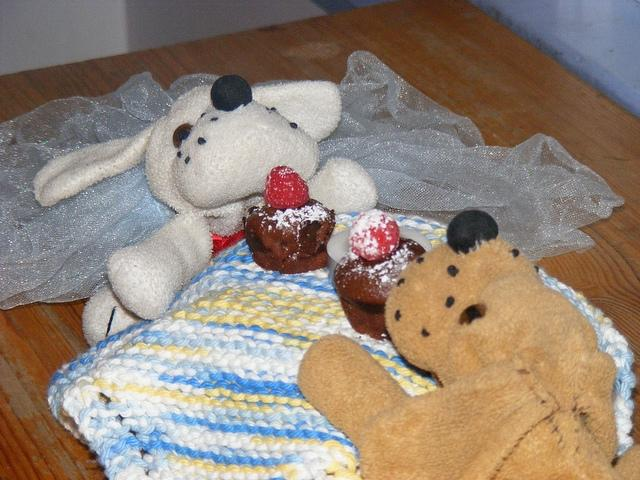raspberry: (348, 210, 400, 260), (264, 166, 310, 210)
